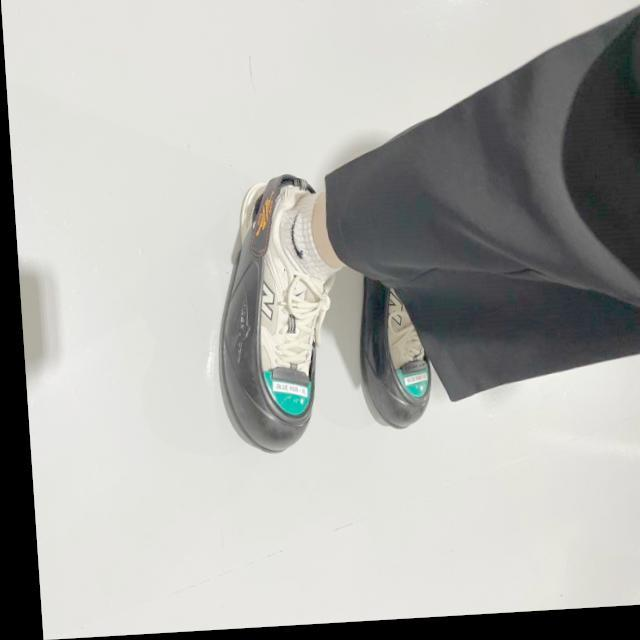shoes: (216, 166, 332, 462), (359, 269, 437, 429)
